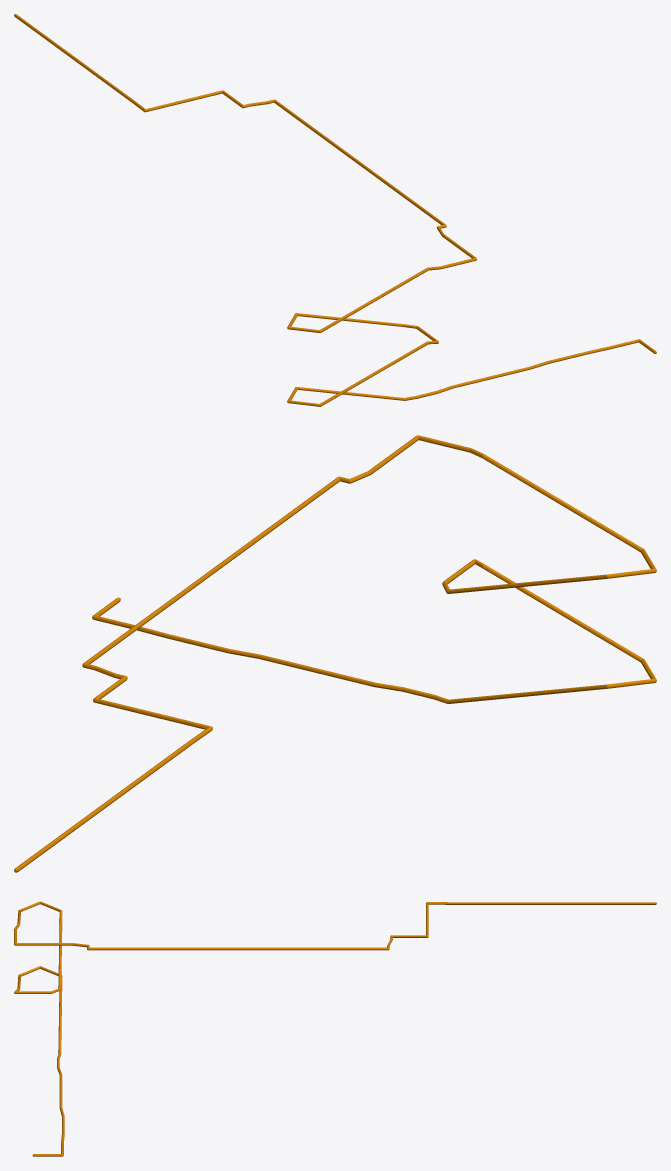
3 renders of one model, top to bottom at view 1: azimuth 30°, elevation 25°; view 2: azimuth 150°, elevation 25°; view 3: azimuth 270°, elevation 25°, orthographic. The views are drawn at different scales.
Bounding box in the file's own units: 2595 × 1020 × 4501.
